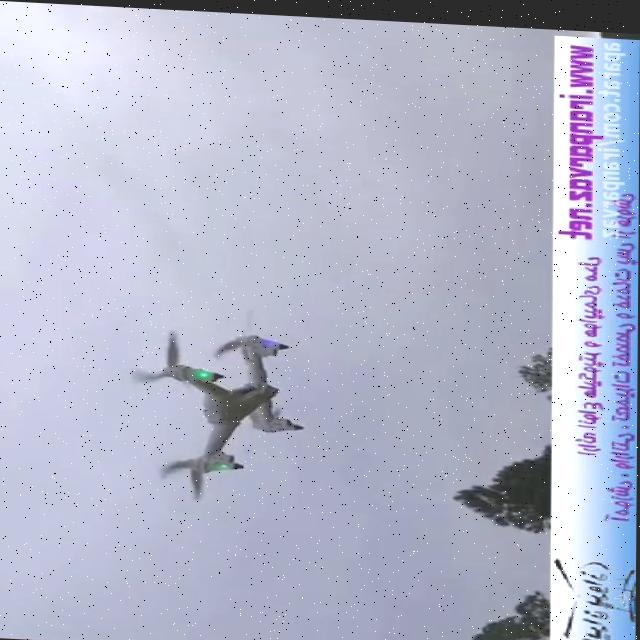drone: (123, 297, 309, 505)
